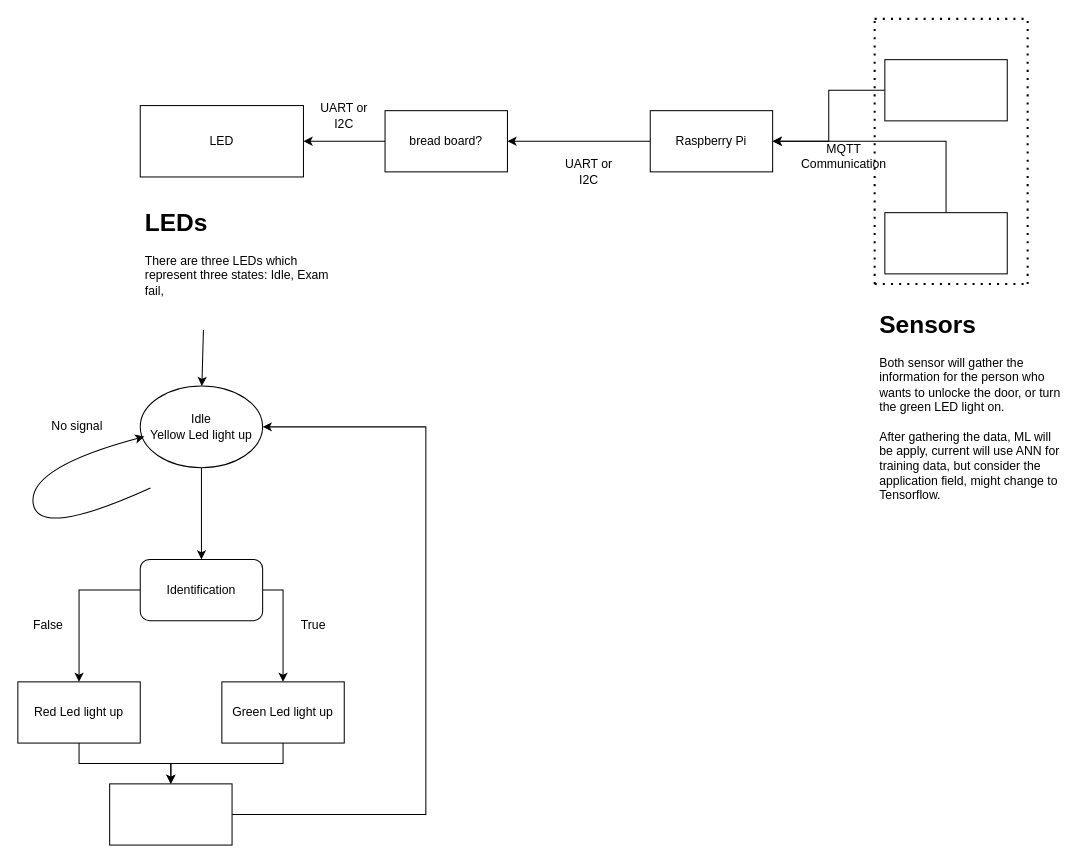
Image size: 1086x863. Some labels were removed from this diagram. Each missing label, with the centre of its shape:
Counting 30 sec Led turns off: [170,814]
Face Recognize Sensor: [945,90]
Fingerprint sensor: [945,243]
